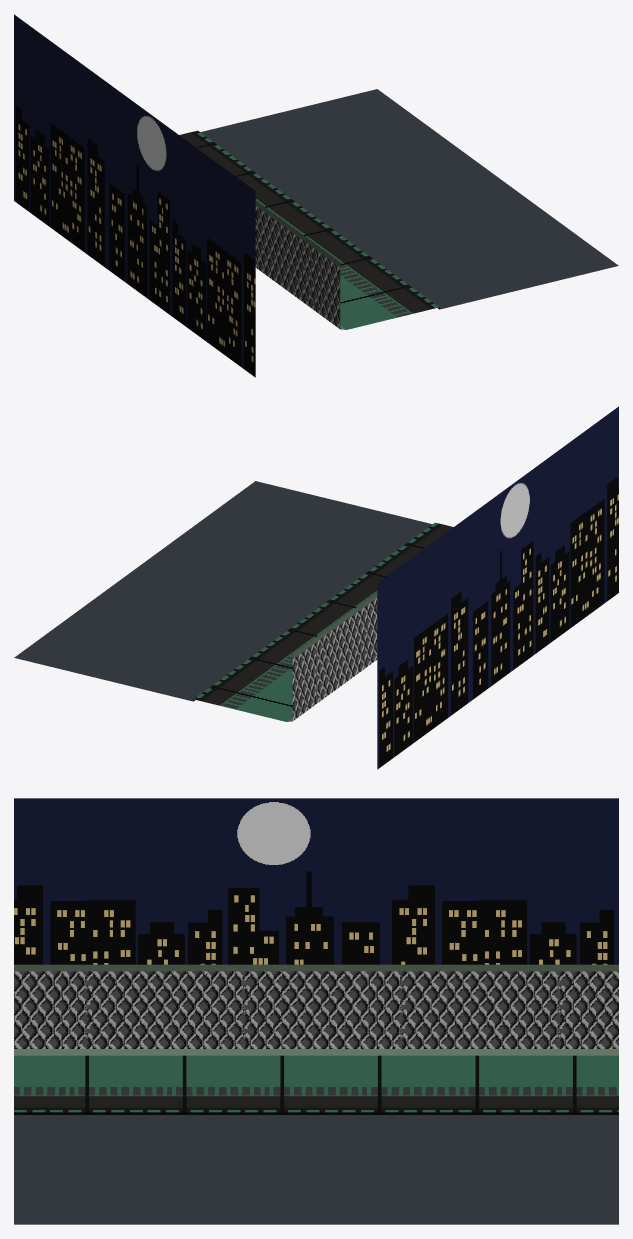
Rendered from levelFive.glb.
The picture shows the model from 3 angles, top to bottom: view 1: azimuth 30°, elevation 25°; view 2: azimuth 150°, elevation 25°; view 3: azimuth 270°, elevation 25°; orthographic projection. The views are drawn at different scales.
Parts seen in each view (by area): view 1: SketchUp.004, SketchUp.001, SketchUp.003, SketchUp.002, SketchUp.006; view 2: SketchUp.004, SketchUp.001, SketchUp.003, SketchUp.002, SketchUp.006; view 3: SketchUp.004, SketchUp.001, SketchUp.002, SketchUp.003, SketchUp.006, SketchUp.005, SketchUp.
Boxes of the visible parts, x1,y1,x2,y2 form: SketchUp.004: [14, 14, 255, 377]; SketchUp.001: [200, 89, 618, 309]; SketchUp.003: [179, 130, 438, 329]; SketchUp.002: [255, 206, 340, 328]; SketchUp.006: [255, 201, 340, 266]; SketchUp.004: [377, 406, 618, 769]; SketchUp.001: [14, 481, 432, 701]; SketchUp.003: [194, 522, 453, 721]; SketchUp.002: [292, 598, 377, 720]; SketchUp.006: [292, 593, 377, 658]; SketchUp.004: [14, 798, 618, 964]; SketchUp.001: [14, 1115, 618, 1224]; SketchUp.002: [14, 971, 618, 1048]; SketchUp.003: [14, 1055, 618, 1112]; SketchUp.006: [14, 964, 618, 971]; SketchUp.005: [14, 1049, 618, 1055]; SketchUp: [14, 1112, 618, 1114].
Bounding box in the file's own units: 2.33 × 1.15 × 2.69.
6 materials, 3 textured.
